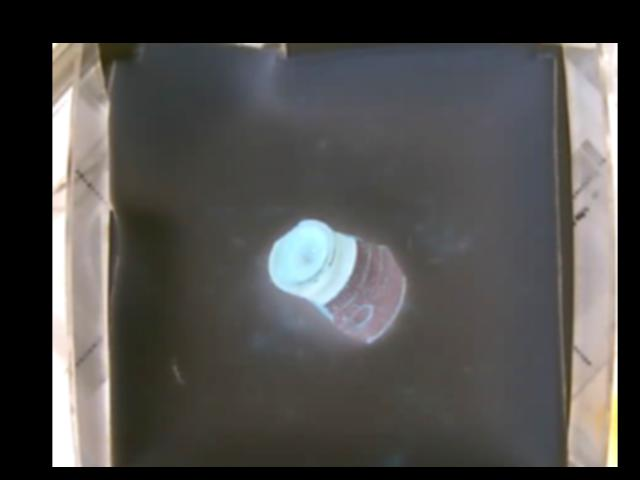China: (266, 220, 408, 340)
